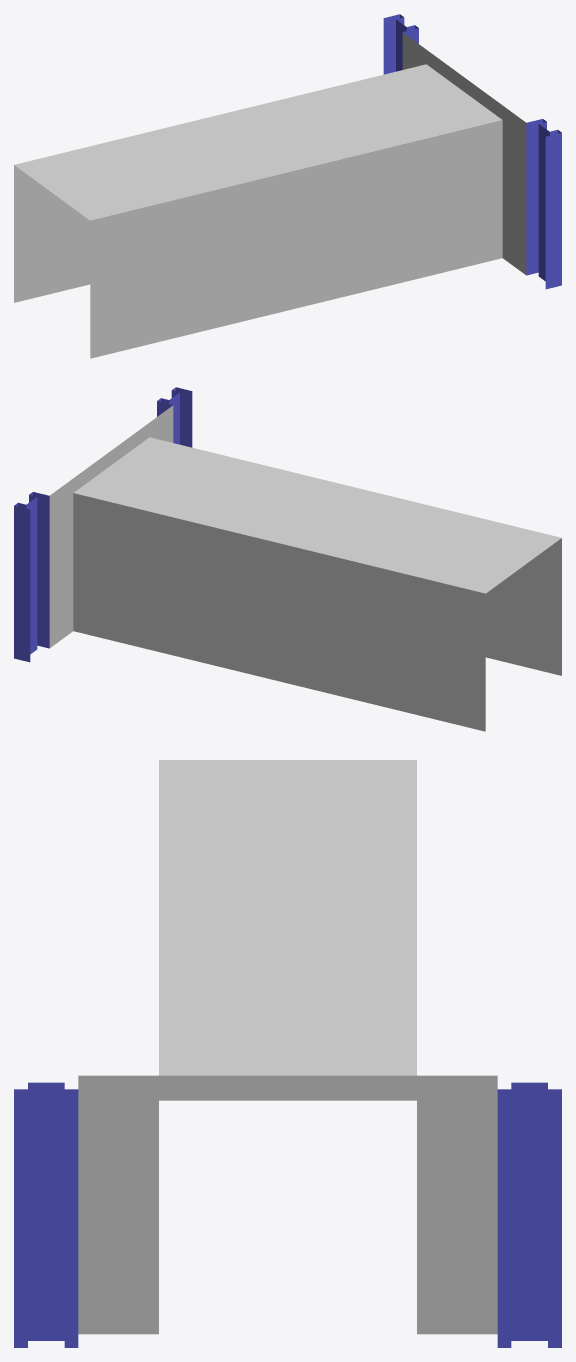
File: Wall_Opening_Short.fbx
3 renders of one model, top to bottom at view 1: azimuth 30°, elevation 25°; view 2: azimuth 150°, elevation 25°; view 3: azimuth 270°, elevation 25°, orthographic. The views are drawn at different scales.
Parts seen in each view (by area): view 1: Wall_Opening_Short; view 2: Wall_Opening_Short; view 3: Wall_Opening_Short.
Boxes of the visible parts, x1,y1,x2,y2 form: Wall_Opening_Short: [14, 14, 561, 358]; Wall_Opening_Short: [14, 387, 561, 731]; Wall_Opening_Short: [14, 760, 561, 1347].
Bounding box in the file's own units: 520 × 177 × 340.
